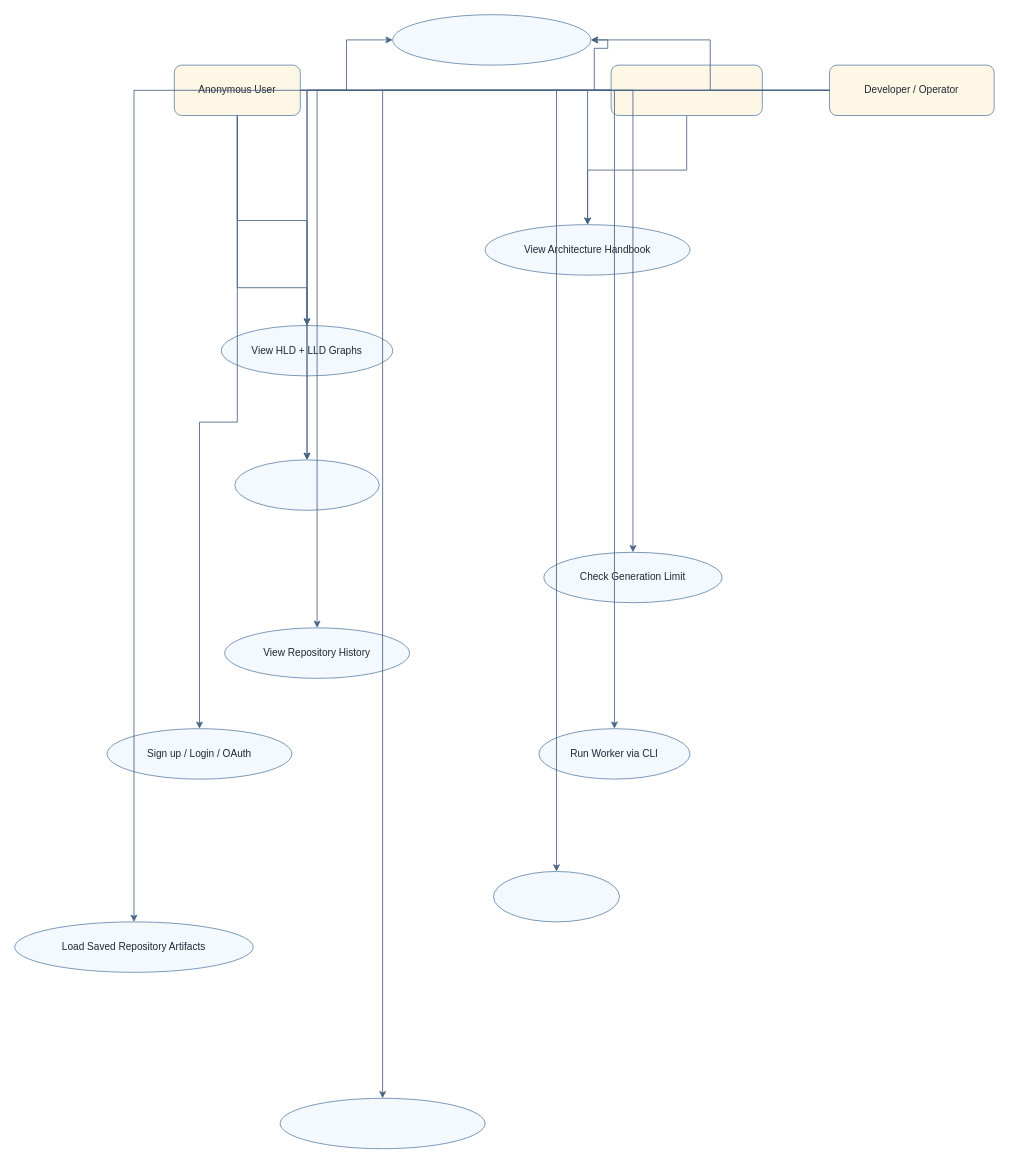
Some shapes in this 1009 by 1163 pixel diagram are drawn without their labels. Each missing label, with the centre of its shape:
"Analyze GitHub Repository" belongs at [491,39].
"Authenticated User" belongs at [686,90].
"Configure .env and runtime" belongs at [382,1123].
"Read Chat Summary" belongs at [306,484].
"Run Test Suite" belongs at [556,896].
